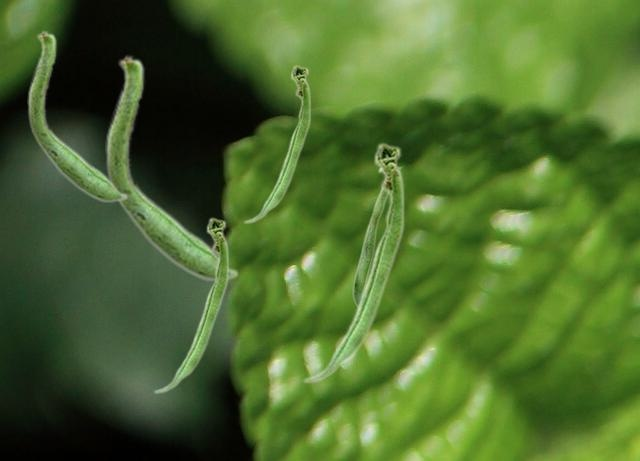french_bean: (105, 53, 238, 281), (302, 141, 404, 383), (27, 29, 127, 202), (153, 216, 228, 393), (243, 64, 310, 223), (352, 170, 388, 305)
